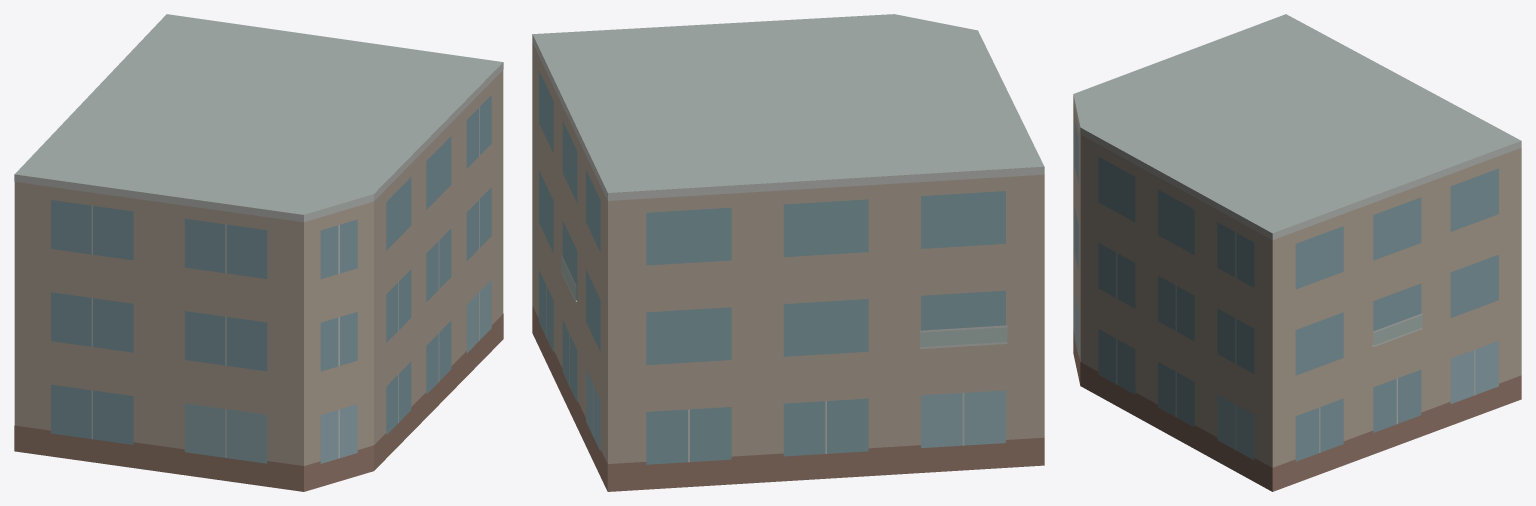
The model's file is survey-upis-33024606.glb.
3 views of the same model, side by side, from view 1: azimuth 30°, elevation 25°; view 2: azimuth 150°, elevation 25°; view 3: azimuth 270°, elevation 25° (orthographic). The views are drawn at different scales.
Parts seen in each view (by area): view 1: survey-upis-33024606.tmp; view 2: survey-upis-33024606.tmp; view 3: survey-upis-33024606.tmp.
Boxes of the visible parts, x1=… form: survey-upis-33024606.tmp: x1=14, y1=14, x2=503, y2=491; survey-upis-33024606.tmp: x1=532, y1=14, x2=1044, y2=491; survey-upis-33024606.tmp: x1=1073, y1=14, x2=1521, y2=491.
Size of the model in its own units: 16.67 by 9.15 by 14.39.
